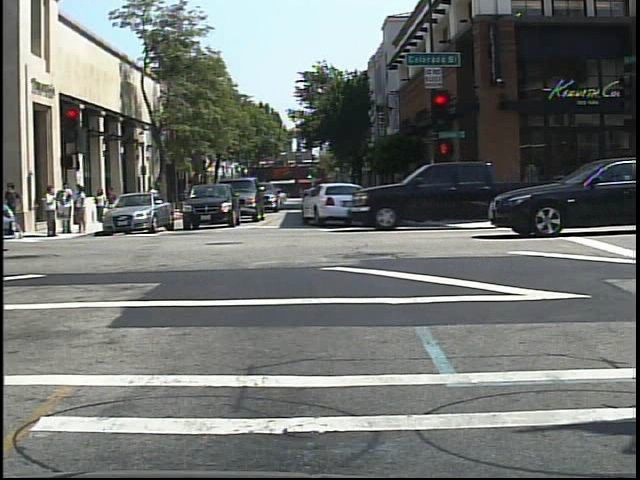person: (146, 180, 165, 218), (94, 187, 108, 225), (144, 179, 160, 212)
